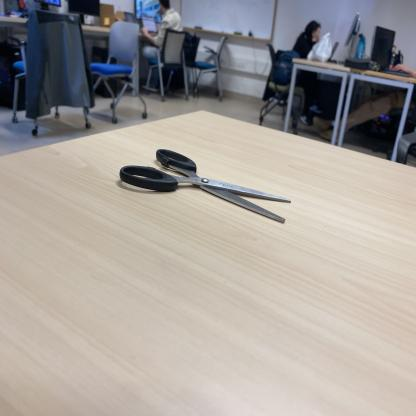scissors: (118, 146, 294, 227)
